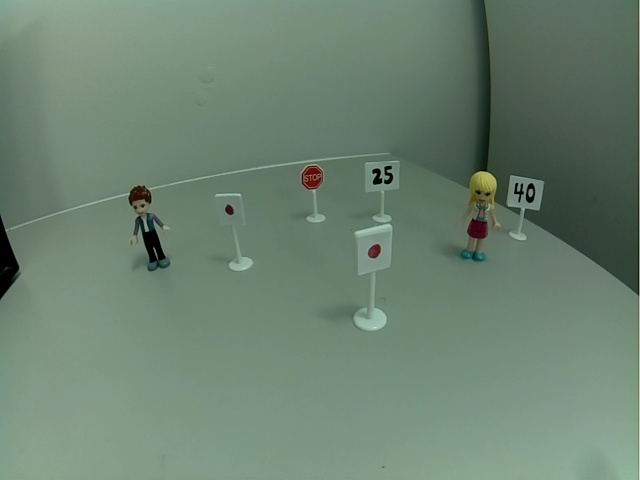people: (124, 185, 176, 273), (451, 169, 499, 264)
red light: (353, 225, 393, 276), (214, 192, 248, 228)
speed 25: (363, 161, 401, 193)
speed 40: (503, 174, 545, 211)
stop: (298, 164, 327, 192)
